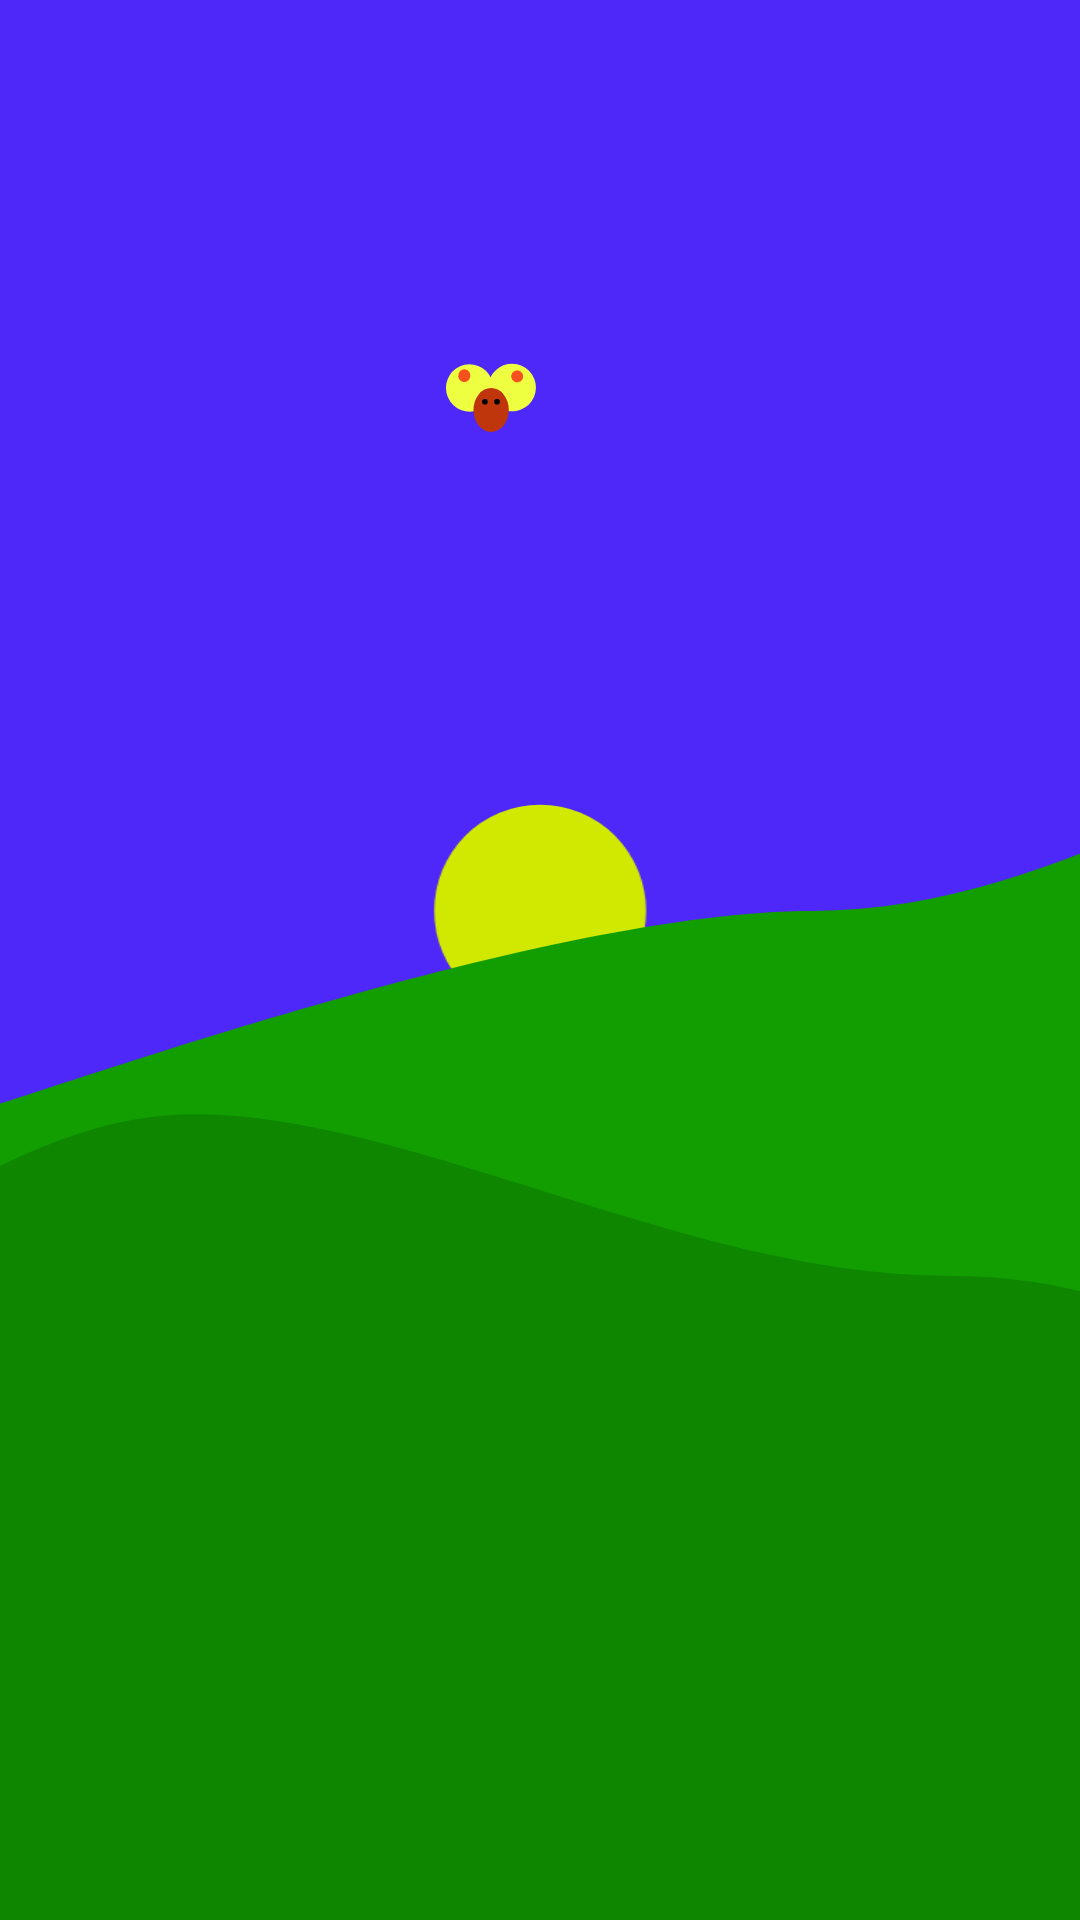

Named icons in this screenshot (1080 × 1920) and their bounding boxes, (x1, y1, x2, y2):
butterfly anim vec: (446, 363, 536, 432)
